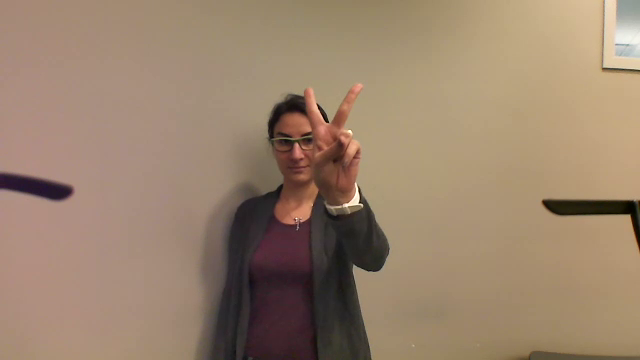peace: (299, 83, 371, 197)
